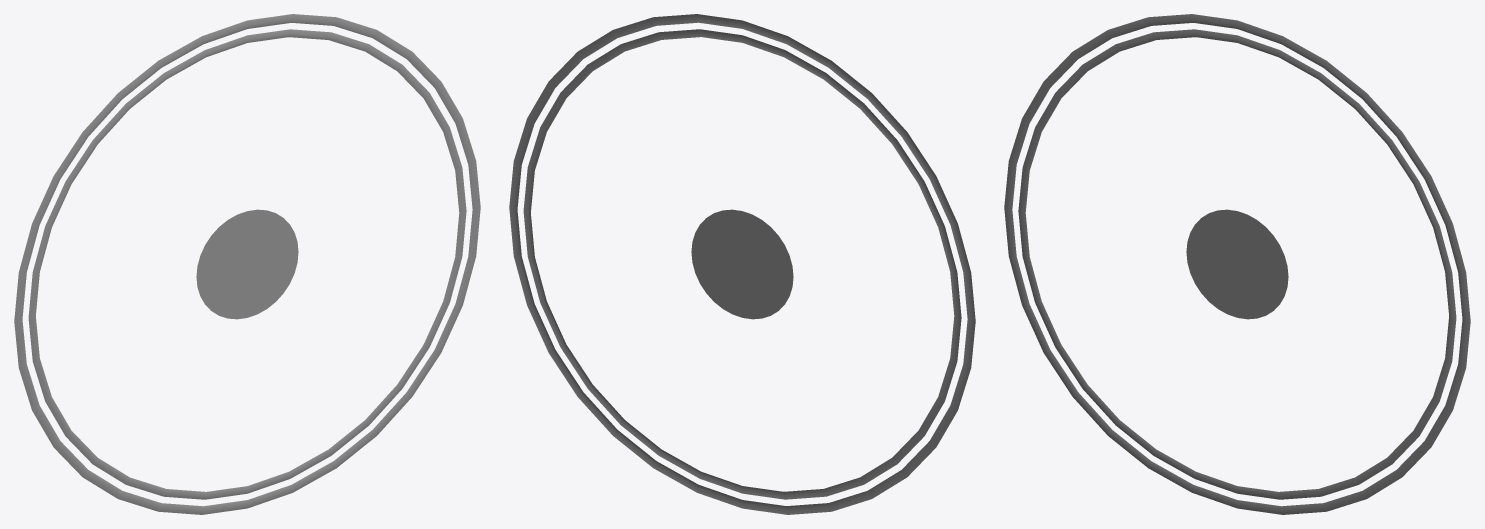
Rendered from MeshPan_5_0_GeomSubset_2.obj.
3 renders of one model, left to right at view 1: azimuth 30°, elevation 25°; view 2: azimuth 150°, elevation 25°; view 3: azimuth 330°, elevation 25°, orthographic.
Parts seen in each view (by area): view 1: MeshPan_5_0_GeomSubset_2; view 2: MeshPan_5_0_GeomSubset_2; view 3: MeshPan_5_0_GeomSubset_2.
Part boxes in pixels (<box>): MeshPan_5_0_GeomSubset_2: <box>14,14,480,514</box>; MeshPan_5_0_GeomSubset_2: <box>509,14,975,514</box>; MeshPan_5_0_GeomSubset_2: <box>1004,14,1470,514</box>.
Bounding box in the file's own units: 0.1756 × 0.1756 × 0.00622.
